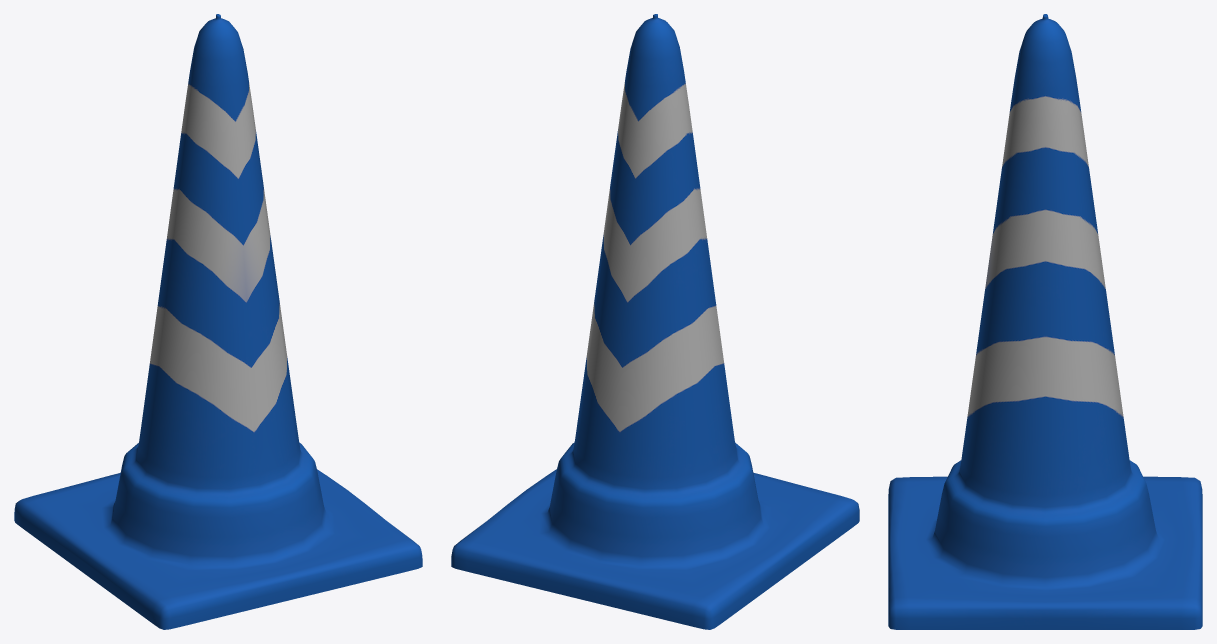
File: ColorCone_Scotch_Blue_NoWeight.fbx
3 views of the same model, side by side, from view 1: azimuth 30°, elevation 25°; view 2: azimuth 150°, elevation 25°; view 3: azimuth 270°, elevation 25° (orthographic). The views are drawn at different scales.
Parts seen in each view (by area): view 1: ColorCone_Scotch_Blue_NoWeight; view 2: ColorCone_Scotch_Blue_NoWeight; view 3: ColorCone_Scotch_Blue_NoWeight.
Boxes of the visible parts, box(x1,y1,x2,y2) form: ColorCone_Scotch_Blue_NoWeight: box(14, 14, 422, 629); ColorCone_Scotch_Blue_NoWeight: box(451, 14, 859, 629); ColorCone_Scotch_Blue_NoWeight: box(888, 14, 1202, 629).
Size of the model in its own units: 38 by 38 by 73.14.
1 material, 1 textured.
